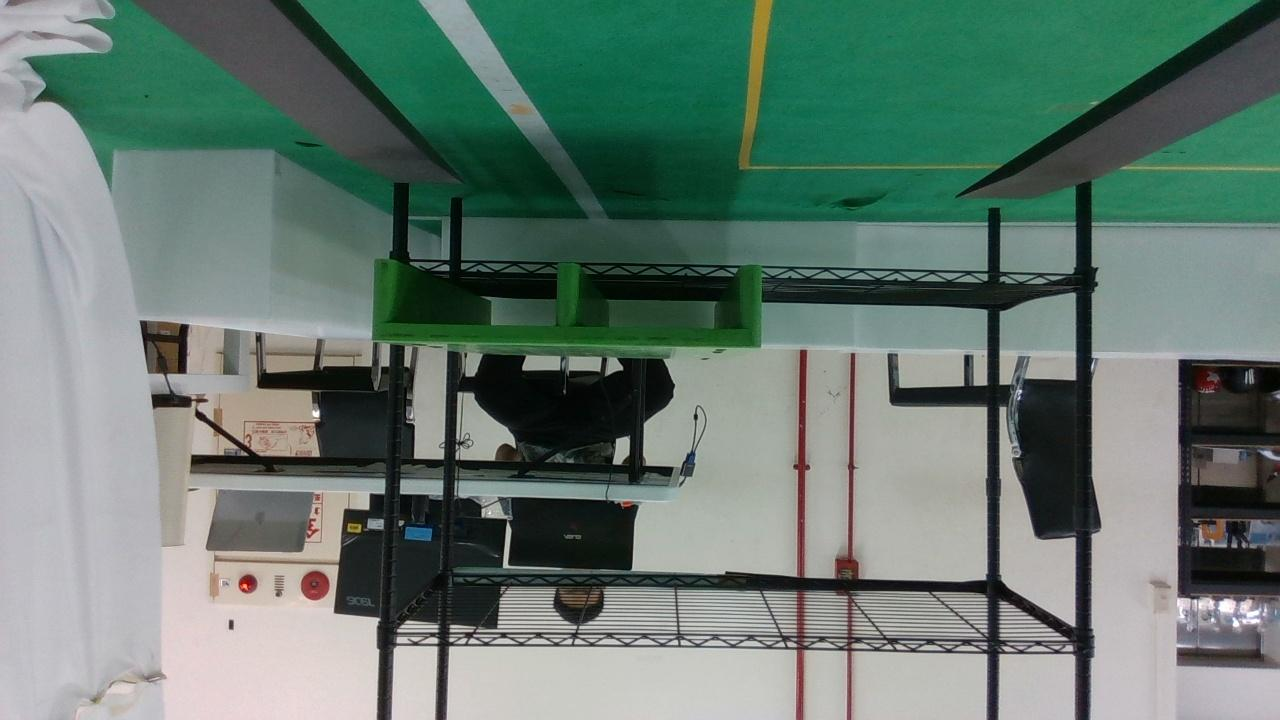Pallet: (370, 261, 764, 349)
